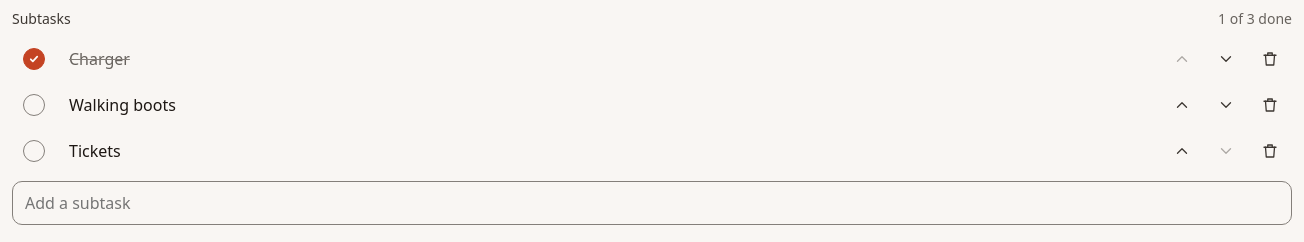
Scenario: SubtaskList › restores a blank title instead of saving it, and sends nothing when unchanged
The width and height of the screenshot is (1304, 242).
Click the field named "Subtask 1".
click(608, 59)  # box [60, 37, 1156, 81]
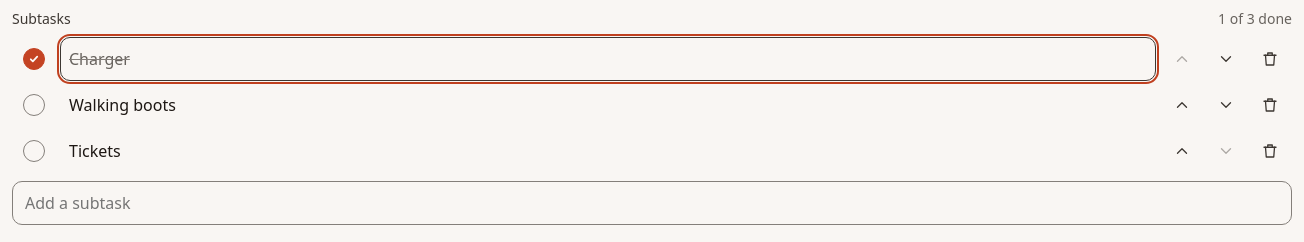
Press Tab
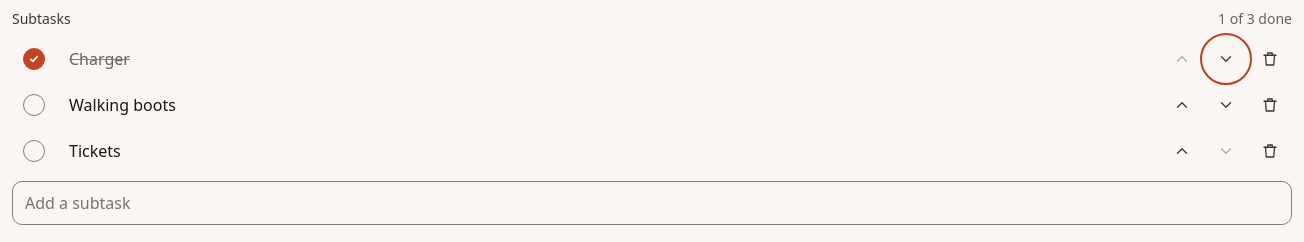
Clear the field named "Subtask 1" at {"x": 608, "y": 59}, box [60, 37, 1156, 81]
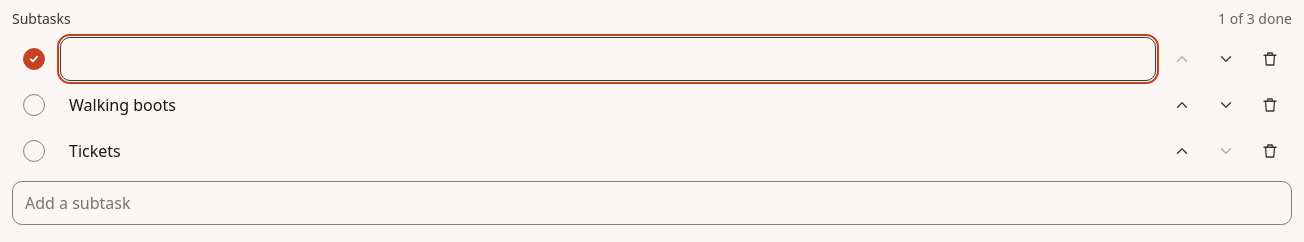
Press Tab
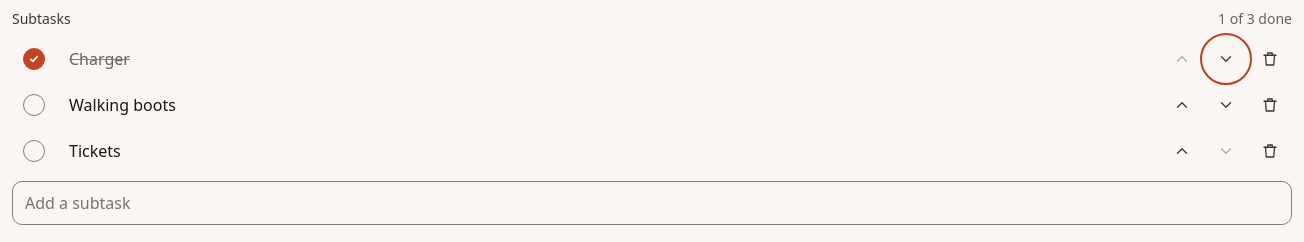
Now the field named "Subtask 1" holds "Charger", box [60, 37, 1156, 81]
